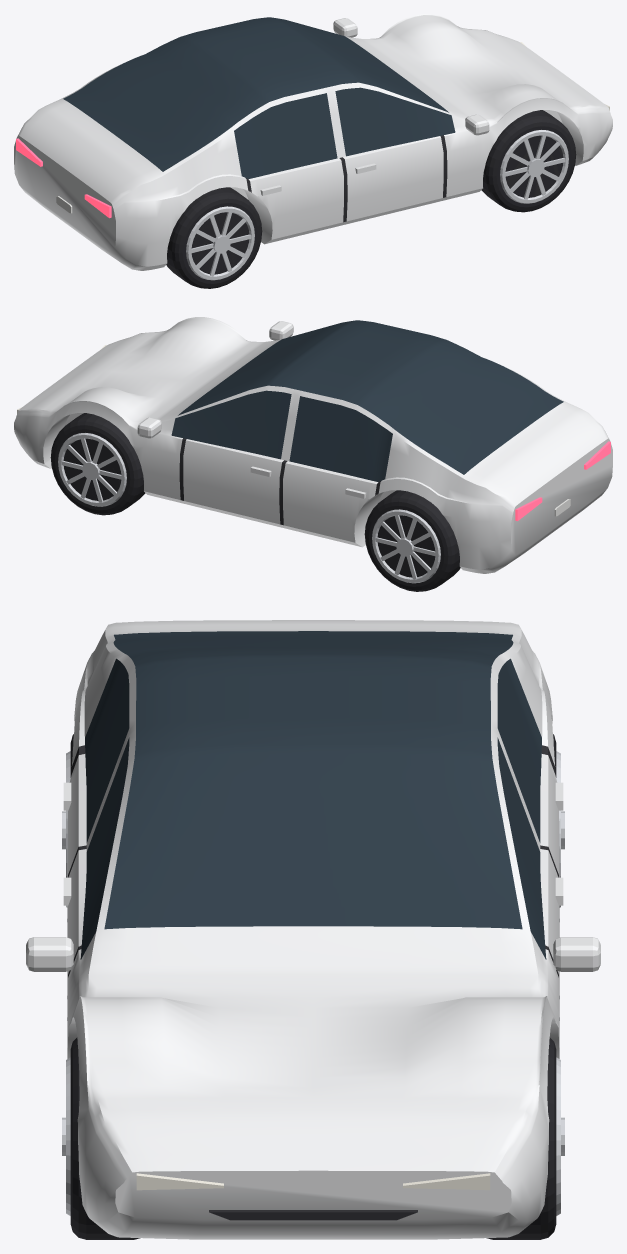
Rendered from tezla_model3.fbx.
3 renders of one model, top to bottom at view 1: azimuth 30°, elevation 25°; view 2: azimuth 150°, elevation 25°; view 3: azimuth 270°, elevation 25°, orthographic. The views are drawn at different scales.
Parts seen in each view (by area): view 1: Body.006, Glass.006, Tire.006, Rim.006, Trim.006, TailLight.006; view 2: Body.006, Glass.006, Tire.006, Rim.006, Trim.006, TailLight.006; view 3: Body.006, Glass.006, Tire.006, Rim.006, Trim.006, HeadLight.006.
Boxes of the visible parts, bbox=[...] form: Body.006: bbox=[14, 14, 612, 270]; Glass.006: bbox=[63, 17, 455, 178]; Tire.006: bbox=[166, 110, 576, 288]; Rim.006: bbox=[186, 130, 568, 280]; Trim.006: bbox=[192, 135, 562, 273]; TailLight.006: bbox=[16, 138, 111, 218]; Body.006: bbox=[14, 317, 612, 573]; Glass.006: bbox=[171, 320, 563, 481]; Tire.006: bbox=[50, 413, 460, 591]; Rim.006: bbox=[58, 433, 440, 583]; Trim.006: bbox=[64, 438, 434, 575]; TailLight.006: bbox=[515, 441, 610, 521]; Body.006: bbox=[26, 620, 600, 1239]; Glass.006: bbox=[80, 631, 546, 959]; Tire.006: bbox=[70, 734, 556, 1239]; Rim.006: bbox=[62, 751, 564, 1215]; Trim.006: bbox=[67, 745, 559, 1220]; HeadLight.006: bbox=[136, 1173, 490, 1190].
Size of the model in its own units: 1464 by 465 by 724.
